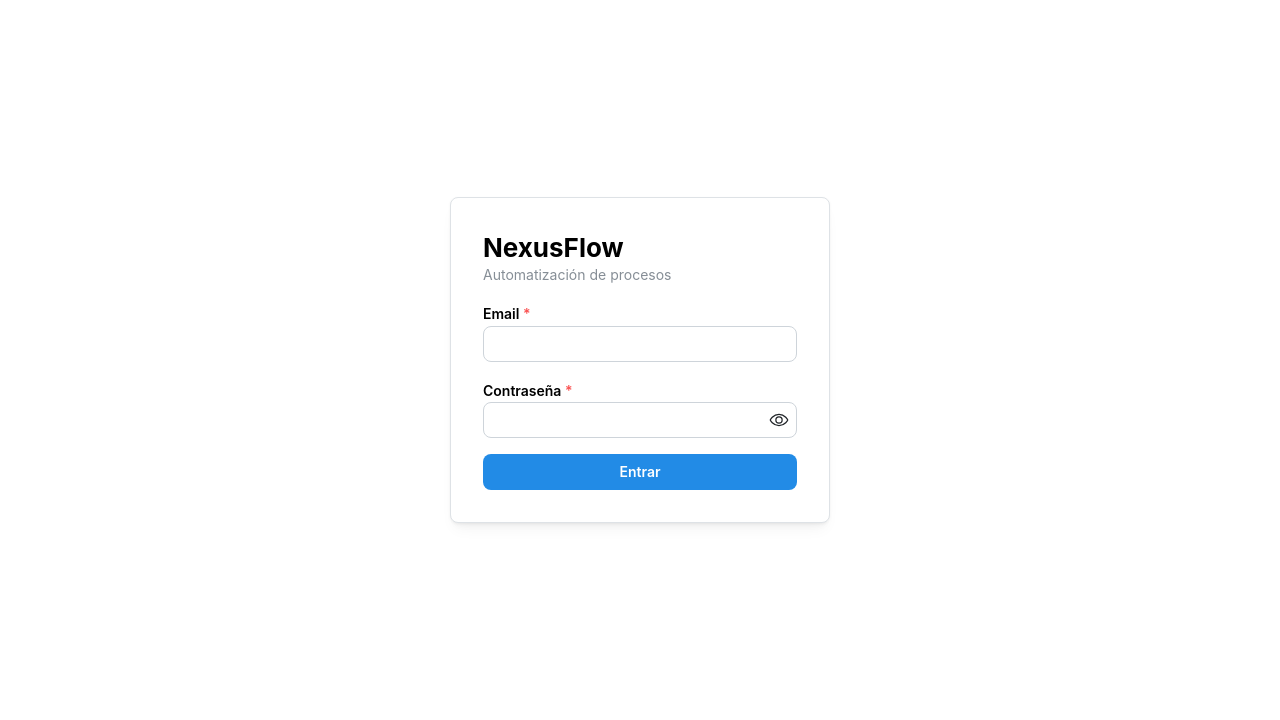
Test: autenticación › tras iniciar sesión vuelve a la página pedida
Type "admin@example.com" into the field labelled "Email *".
click(640, 344); type("admin@example.com")  # box [483, 326, 797, 362]
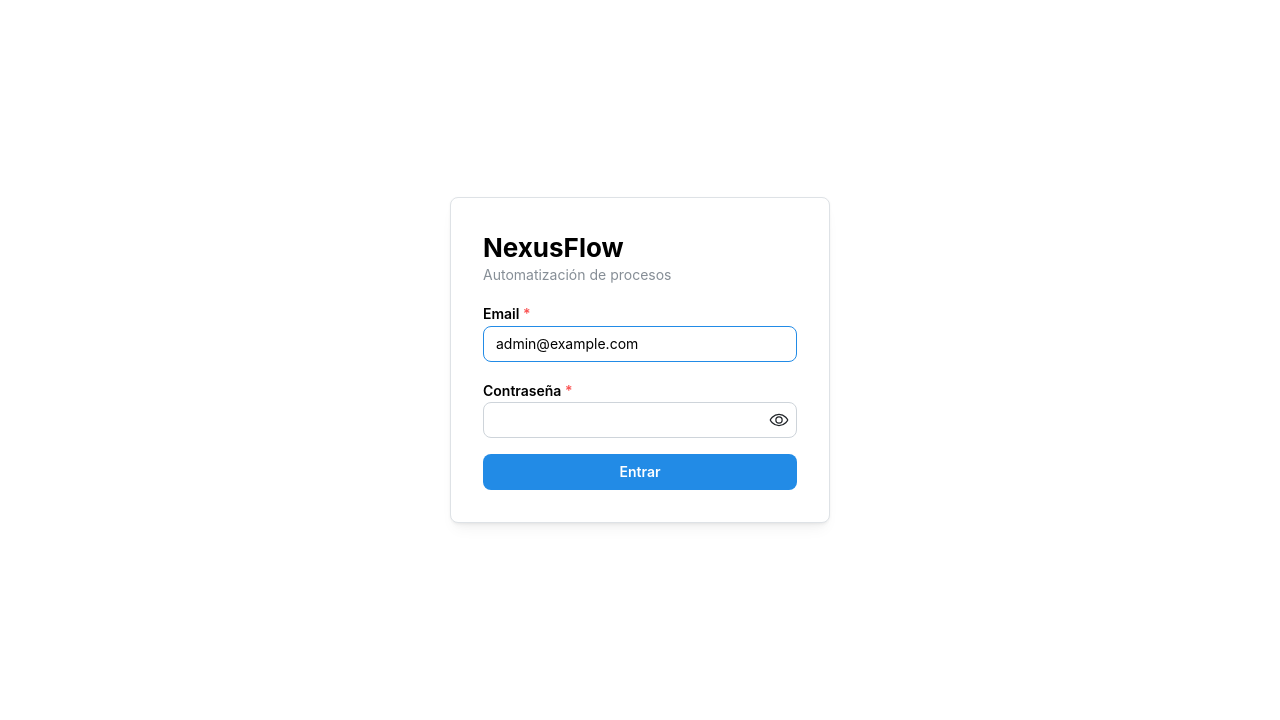
Type "correcta-larga-123" into the password field labelled "Contraseña *".
click(640, 420); type("correcta-larga-123")  # box [484, 404, 796, 438]
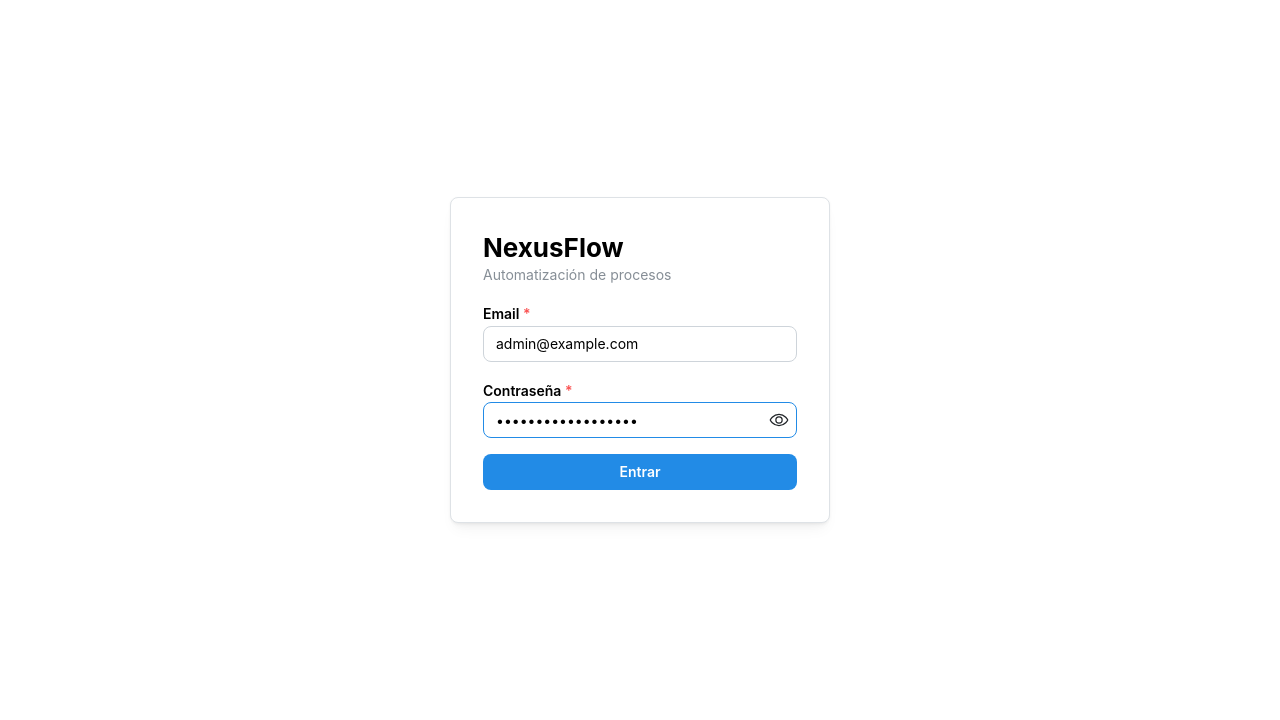
Click the button "Entrar".
click(640, 472)  # box [483, 454, 797, 490]
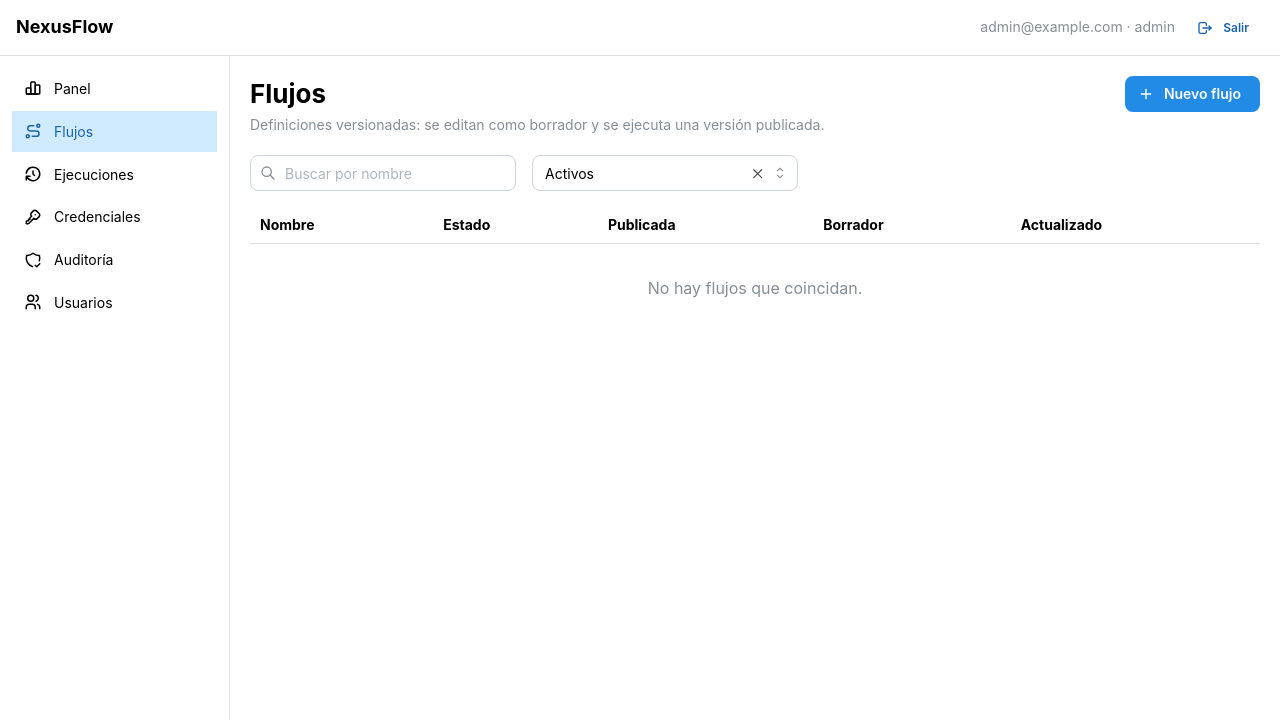
Result: the heading "Flujos" is shown at [250, 78, 326, 109]
